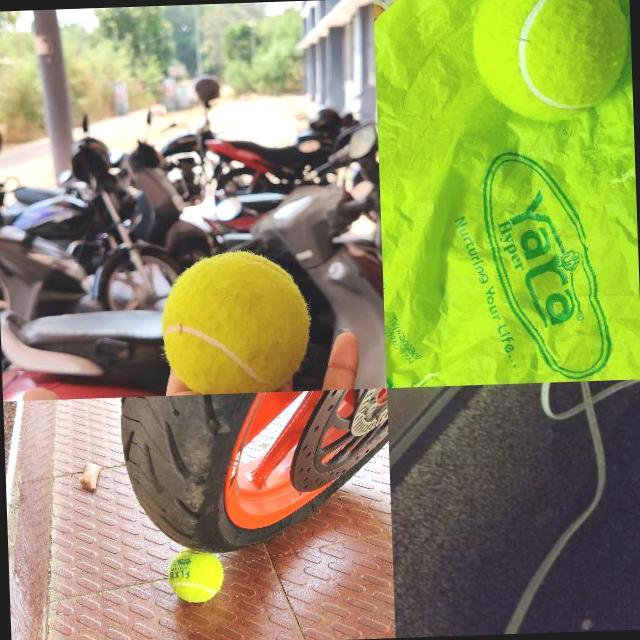Tennis Ball: (157, 248, 310, 394), (470, 0, 632, 123), (167, 552, 224, 602)
